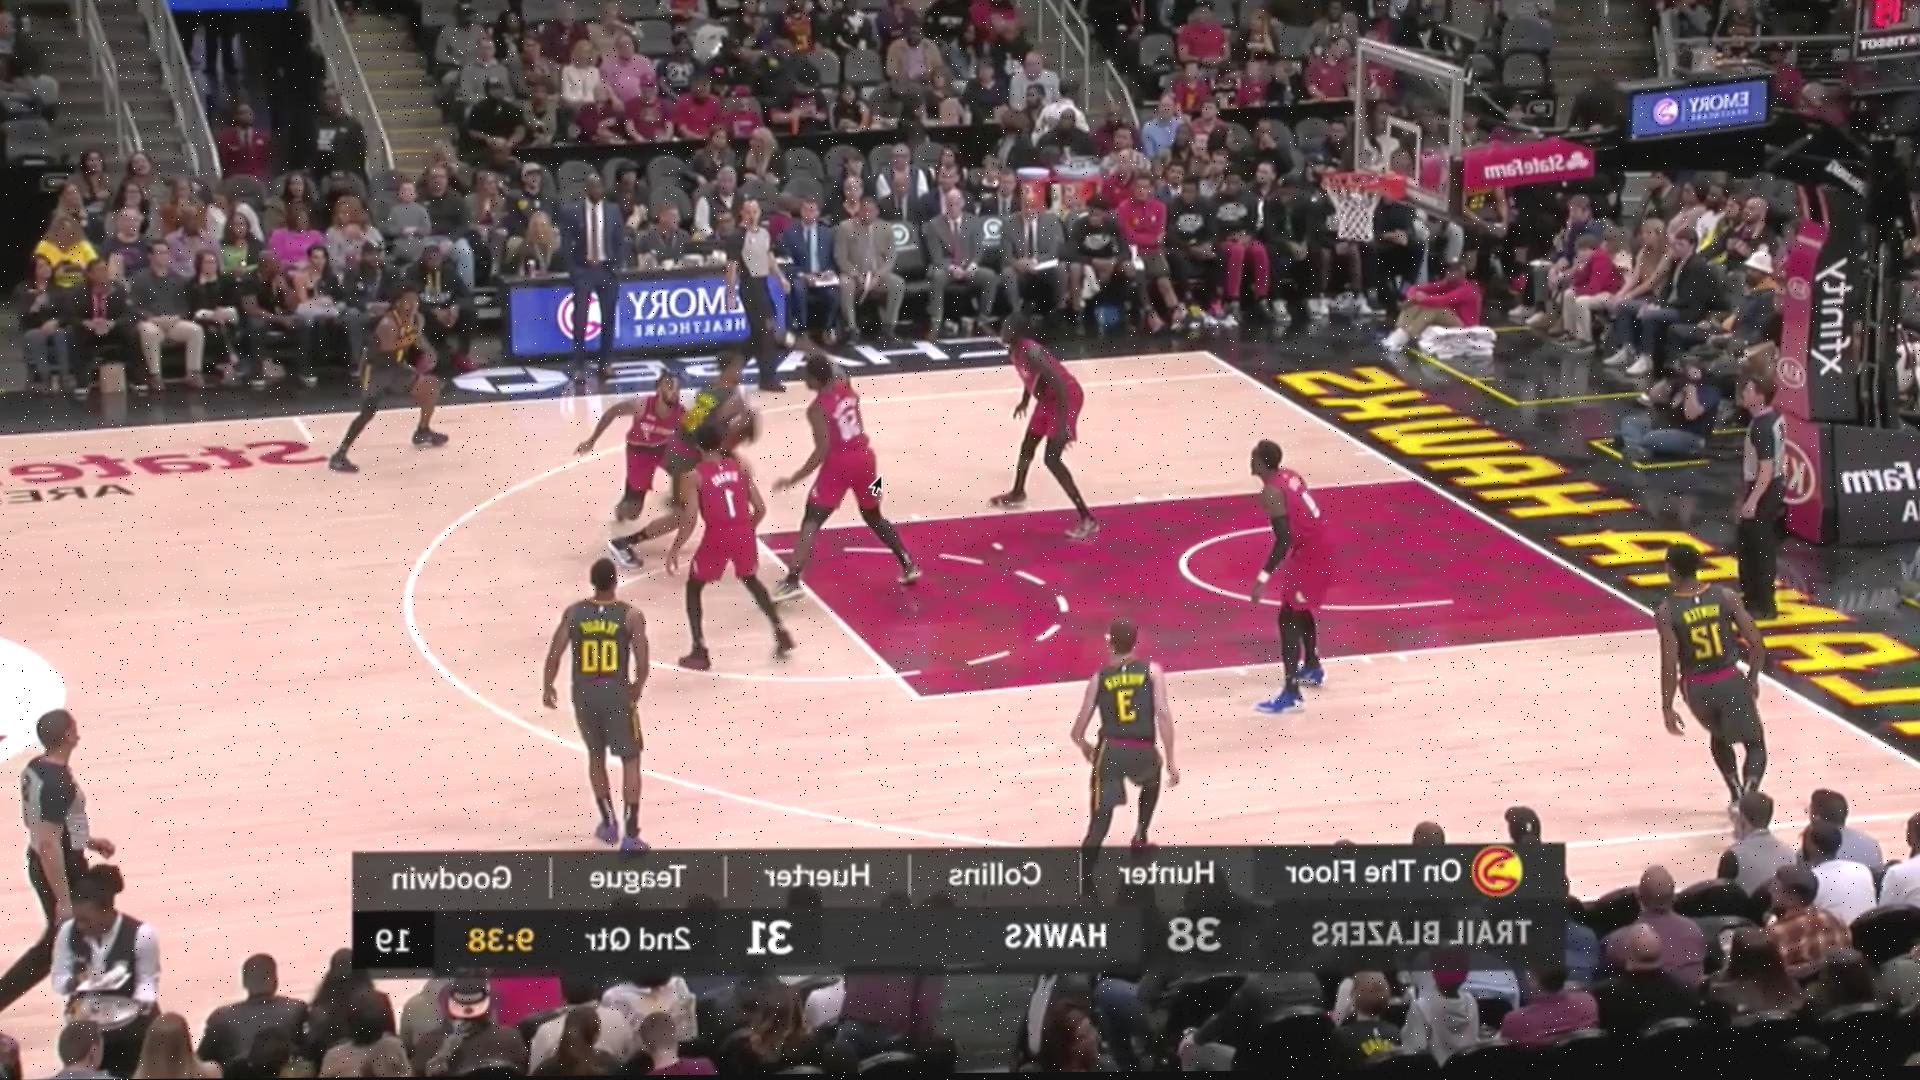no_foul: (612, 344, 753, 554)
